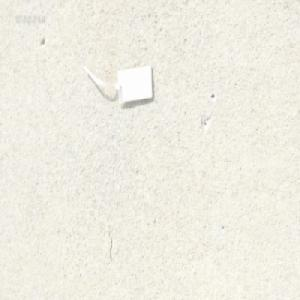LuggageTag: (82, 58, 154, 105)
